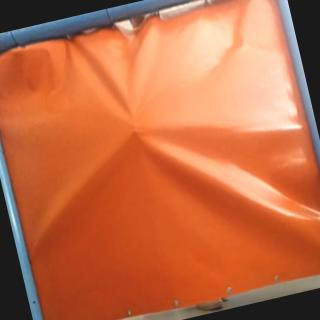Hit-hRxx: (129, 124, 142, 136)
